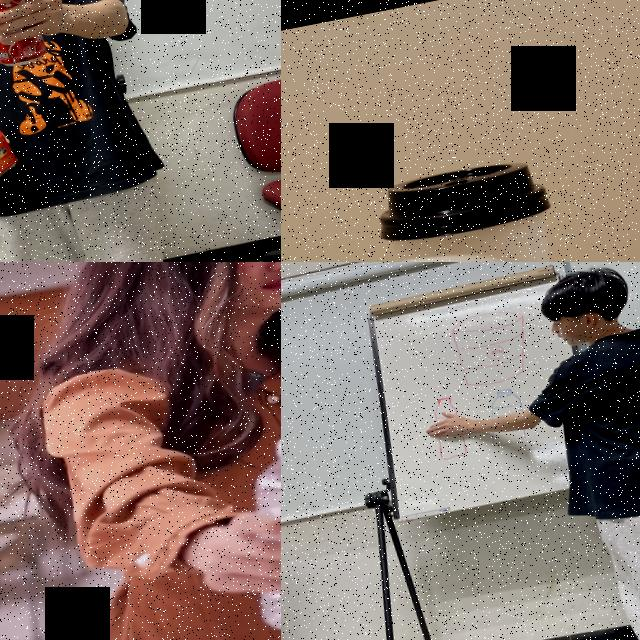bottle: (227, 423, 281, 640)
can: (0, 0, 48, 71)
cup: (373, 153, 594, 262)
